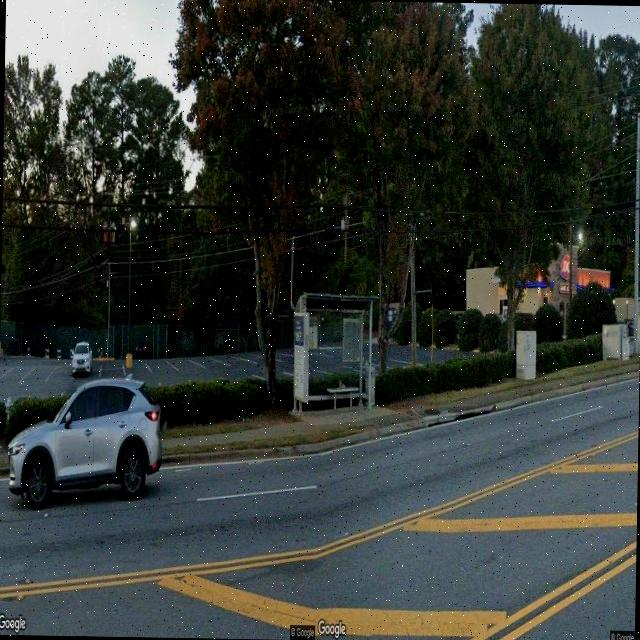seating: (327, 384, 360, 411)
shelter: (292, 292, 379, 416)
trash_can: (364, 366, 376, 406)
